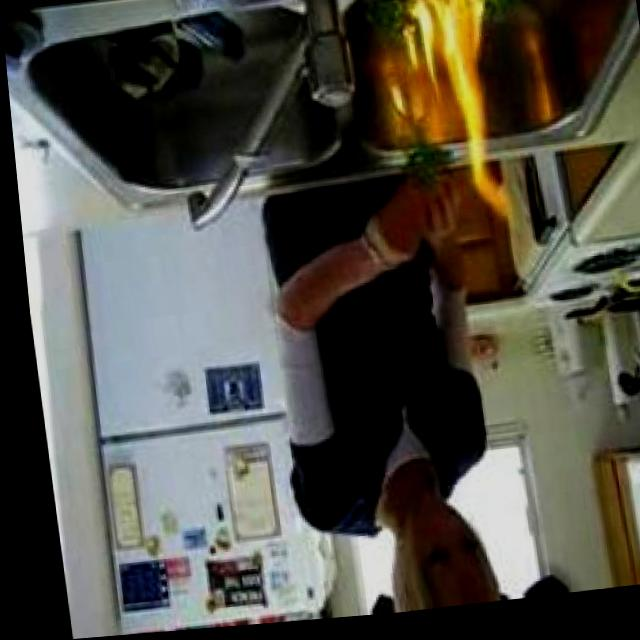helmet: (402, 0, 509, 201)
